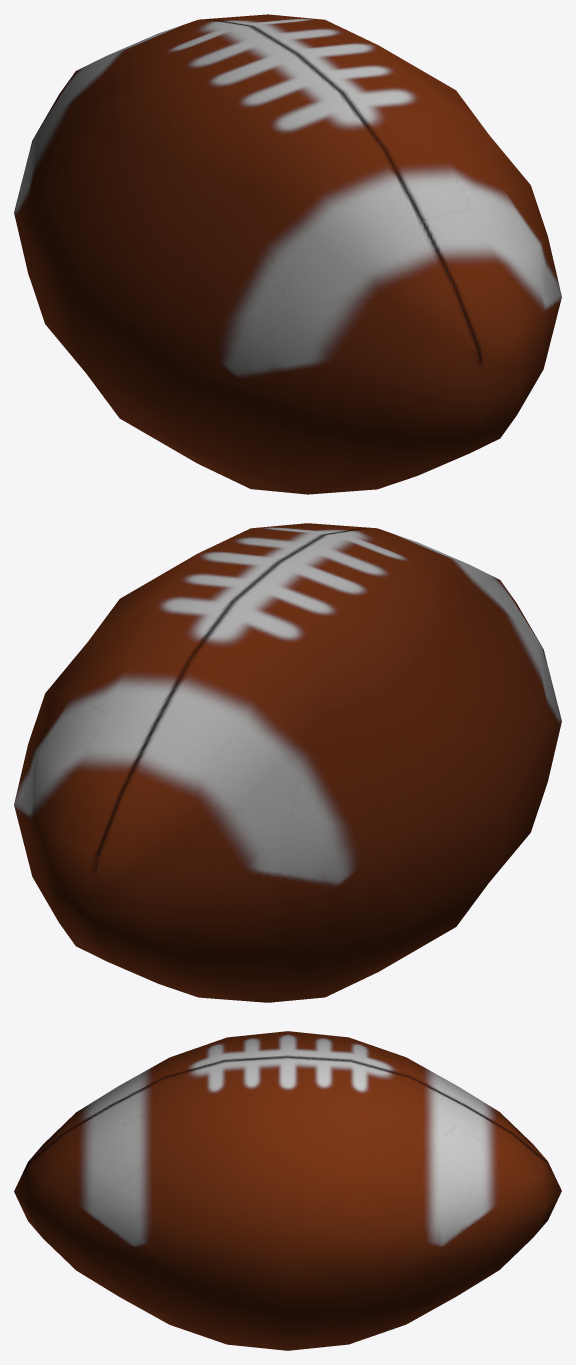
File: football.fbx
3 renders of one model, top to bottom at view 1: azimuth 30°, elevation 25°; view 2: azimuth 150°, elevation 25°; view 3: azimuth 270°, elevation 25°, orthographic. The views are drawn at different scales.
Visible parts, largest first — view 1: football; view 2: football; view 3: football.
Part boxes in pixels (x1=…): football: x1=14, y1=14, x2=561, y2=494; football: x1=14, y1=523, x2=561, y2=1002; football: x1=14, y1=1031, x2=561, y2=1350.
Size of the model in its own units: 38.9 by 34.23 by 61.66.
